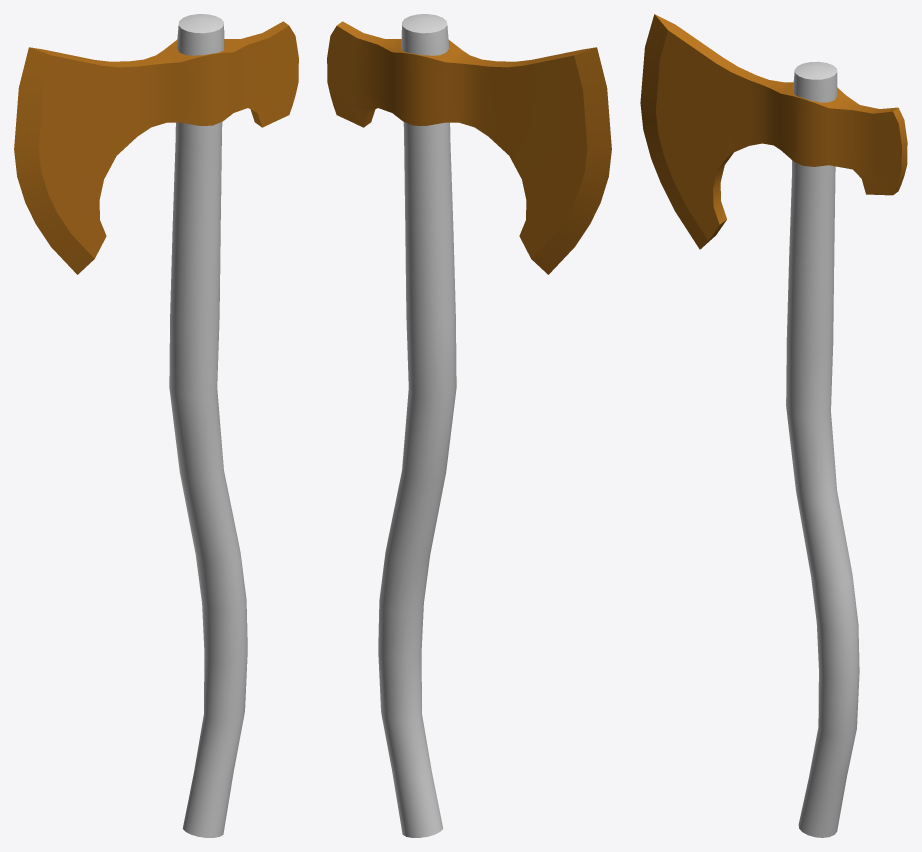
Rendered from axe.glb.
3 views of the same model, side by side, from view 1: azimuth 30°, elevation 25°; view 2: azimuth 150°, elevation 25°; view 3: azimuth 330°, elevation 25° (orthographic). The views are drawn at different scales.
Parts seen in each view (by area): view 1: Axe_Bronze; view 2: Axe_Bronze; view 3: Axe_Bronze.
Boxes of the visible parts, <box> form: Axe_Bronze: <box>14,14,298,837</box>; Axe_Bronze: <box>327,14,611,837</box>; Axe_Bronze: <box>640,14,907,837</box>.
Size of the model in its own units: 0.2945 by 0.8269 by 0.046.
